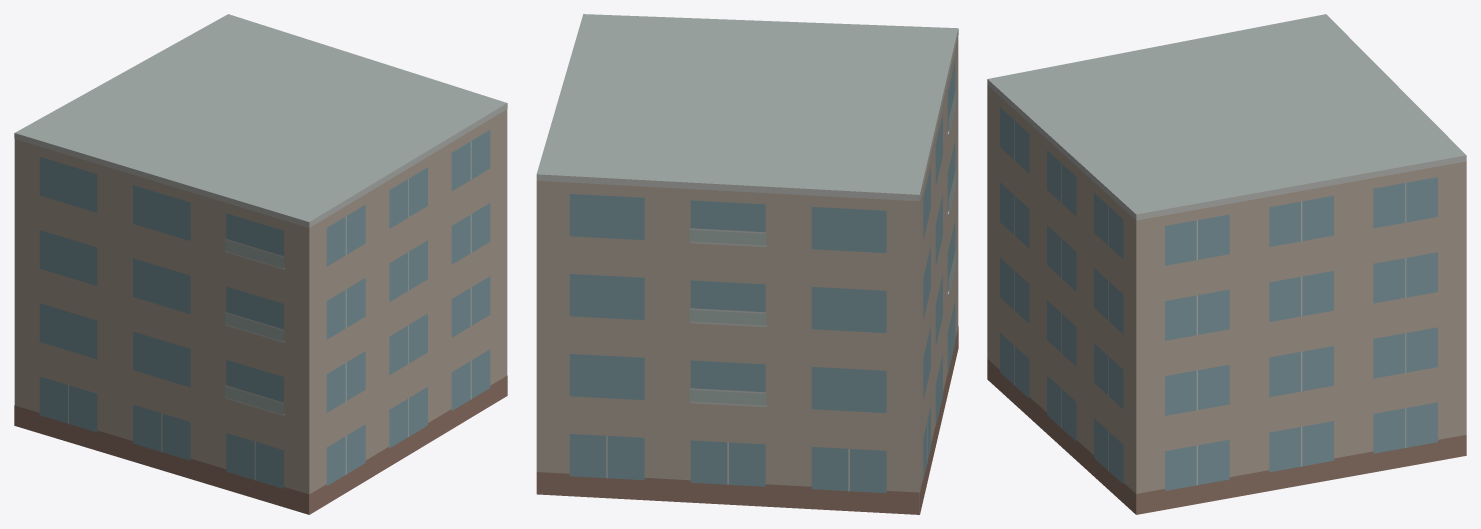
Rendered from survey-upis-32775361.glb.
3 renders of one model, left to right at view 1: azimuth 30°, elevation 25°; view 2: azimuth 150°, elevation 25°; view 3: azimuth 270°, elevation 25°, orthographic. The views are drawn at different scales.
Visible parts, largest first — view 1: survey-upis-32775361.tmp; view 2: survey-upis-32775361.tmp; view 3: survey-upis-32775361.tmp.
Boxes of the visible parts, left/top/right/bottom form: survey-upis-32775361.tmp: left=14, top=14, right=507, bottom=514; survey-upis-32775361.tmp: left=536, top=14, right=958, bottom=514; survey-upis-32775361.tmp: left=987, top=14, right=1466, bottom=514.
Bounding box in the file's own units: 17.47 × 12.2 × 17.65.
